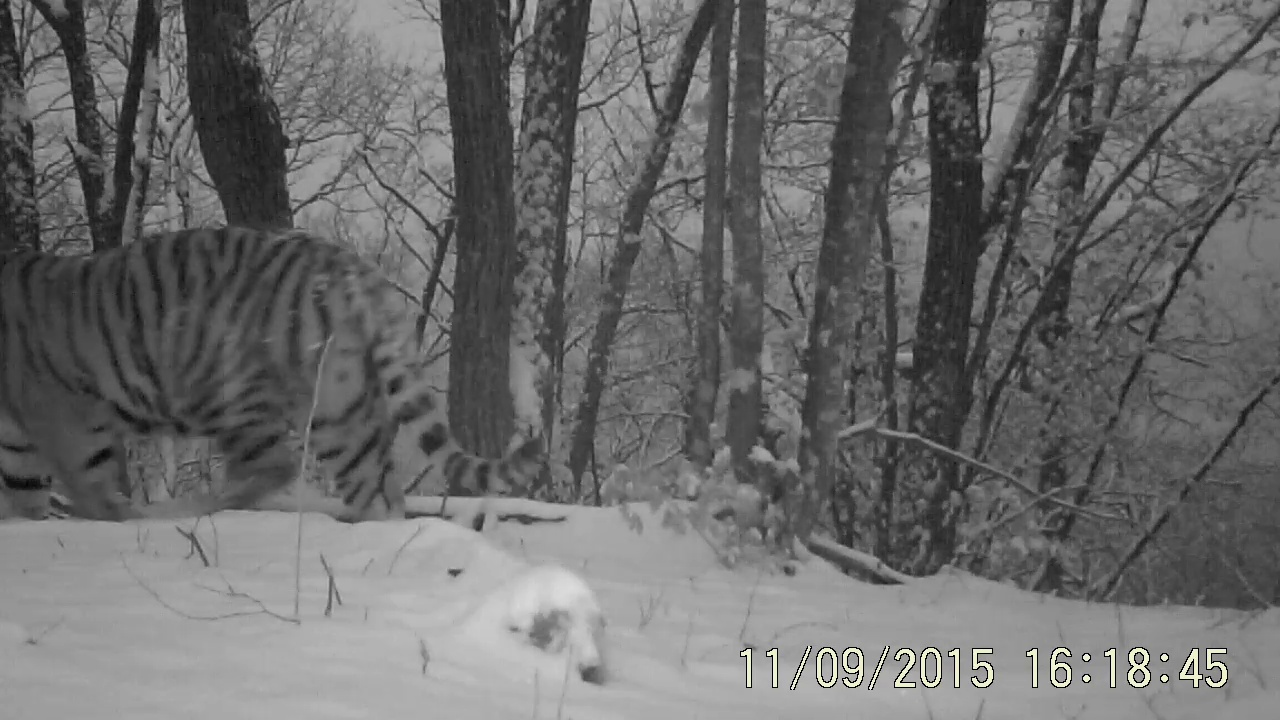Tiger: (5, 115, 662, 642)
